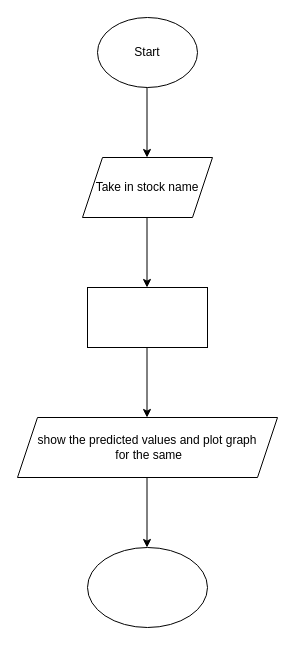
This 295x645 diagram has some shape labels left out. Each missing label, with the box of its shape:
End: (86, 546, 208, 628)
ML model to predict future stock prices: (86, 286, 208, 348)
